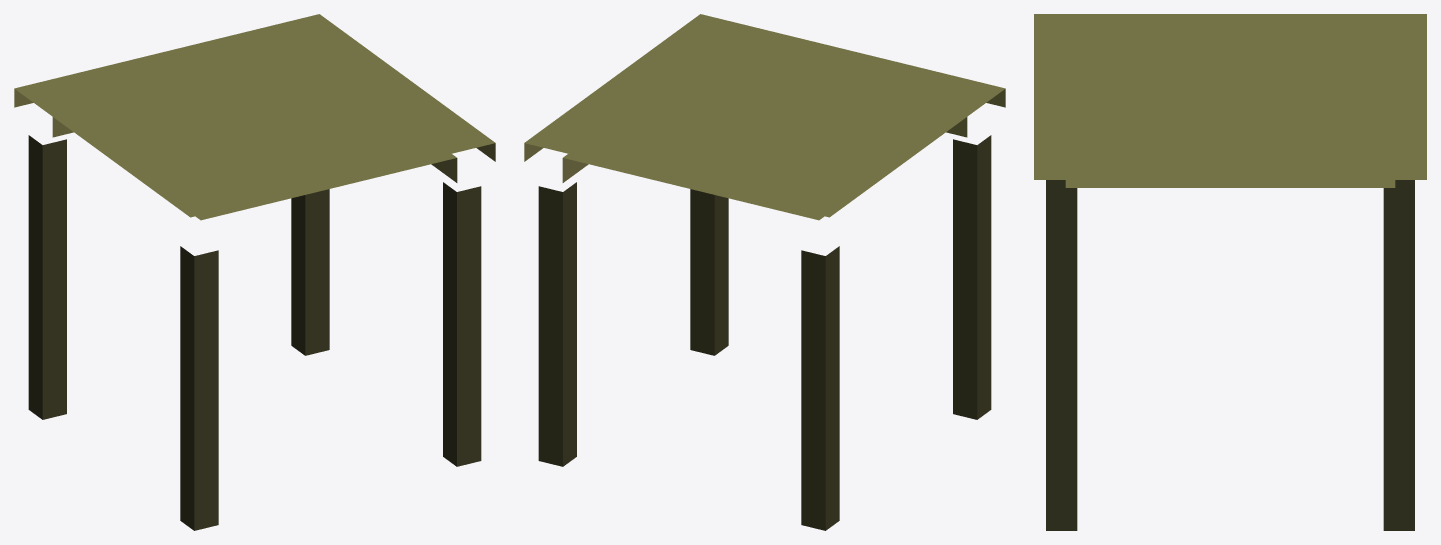
The model's file is Table-olive.glb.
3 renders of one model, left to right at view 1: azimuth 30°, elevation 25°; view 2: azimuth 150°, elevation 25°; view 3: azimuth 270°, elevation 25°, orthographic. The views are drawn at different scales.
Parts seen in each view (by area): view 1: Table; view 2: Table; view 3: Table.
Part boxes in pixels (x1,y1,x2,y2): Table: (14,14,495,530); Table: (524,14,1005,530); Table: (1034,14,1426,530).
Bounding box in the file's own units: 1 × 1 × 1.
